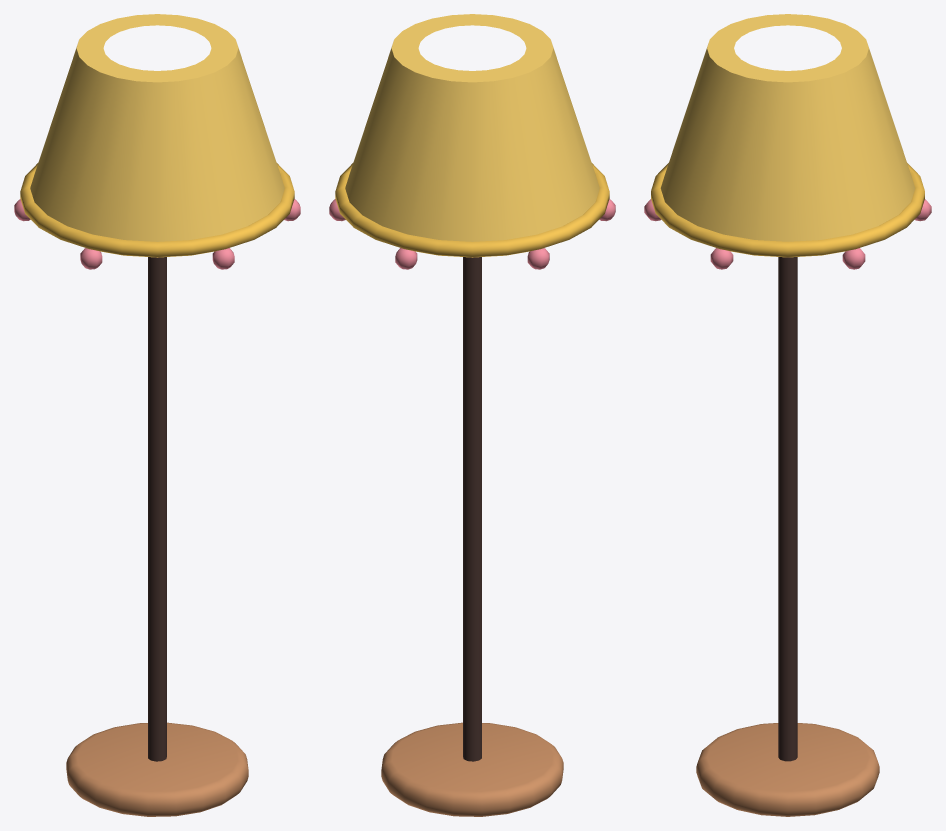
Rendered from floor_lamp.glb.
3 views of the same model, side by side, from view 1: azimuth 30°, elevation 25°; view 2: azimuth 150°, elevation 25°; view 3: azimuth 270°, elevation 25° (orthographic).
Visible parts, largest first — view 1: FloorLamp; view 2: FloorLamp; view 3: FloorLamp.
Boxes of the visible parts, x1,y1,x2,y2 form: FloorLamp: (14, 14, 300, 816); FloorLamp: (329, 14, 615, 816); FloorLamp: (644, 14, 931, 816).
Size of the model in its own units: 0.5077 by 1.5 by 0.5318.
